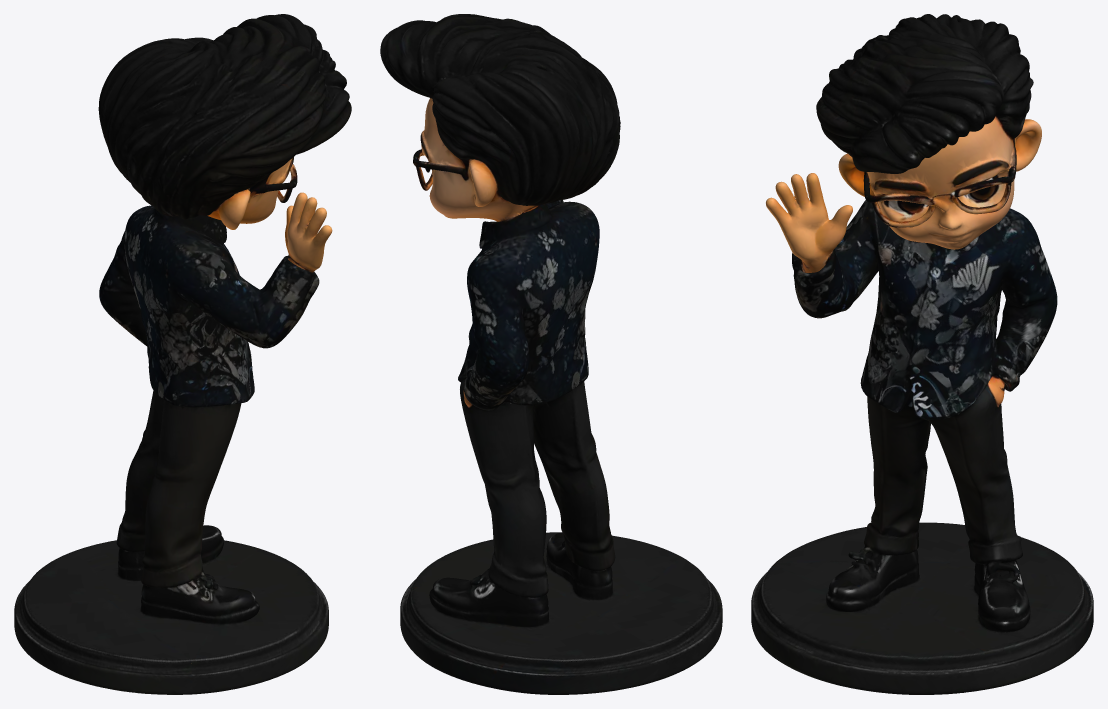
File: contact.glb
3 views of the same model, side by side, from view 1: azimuth 30°, elevation 25°; view 2: azimuth 150°, elevation 25°; view 3: azimuth 270°, elevation 25° (orthographic). The views are drawn at different scales.
Visible parts, largest first — view 1: tripo_node_4307098e-f3d6-4151-b068-06d2dec6666c; view 2: tripo_node_4307098e-f3d6-4151-b068-06d2dec6666c; view 3: tripo_node_4307098e-f3d6-4151-b068-06d2dec6666c.
Boxes of the visible parts, left/top/right/bottom form: tripo_node_4307098e-f3d6-4151-b068-06d2dec6666c: left=14, top=14, right=351, bottom=694; tripo_node_4307098e-f3d6-4151-b068-06d2dec6666c: left=380, top=14, right=722, bottom=694; tripo_node_4307098e-f3d6-4151-b068-06d2dec6666c: left=751, top=14, right=1093, bottom=694.
Bounding box in the file's own units: 0.5515 × 1 × 0.4989.
1 material, 1 textured.
